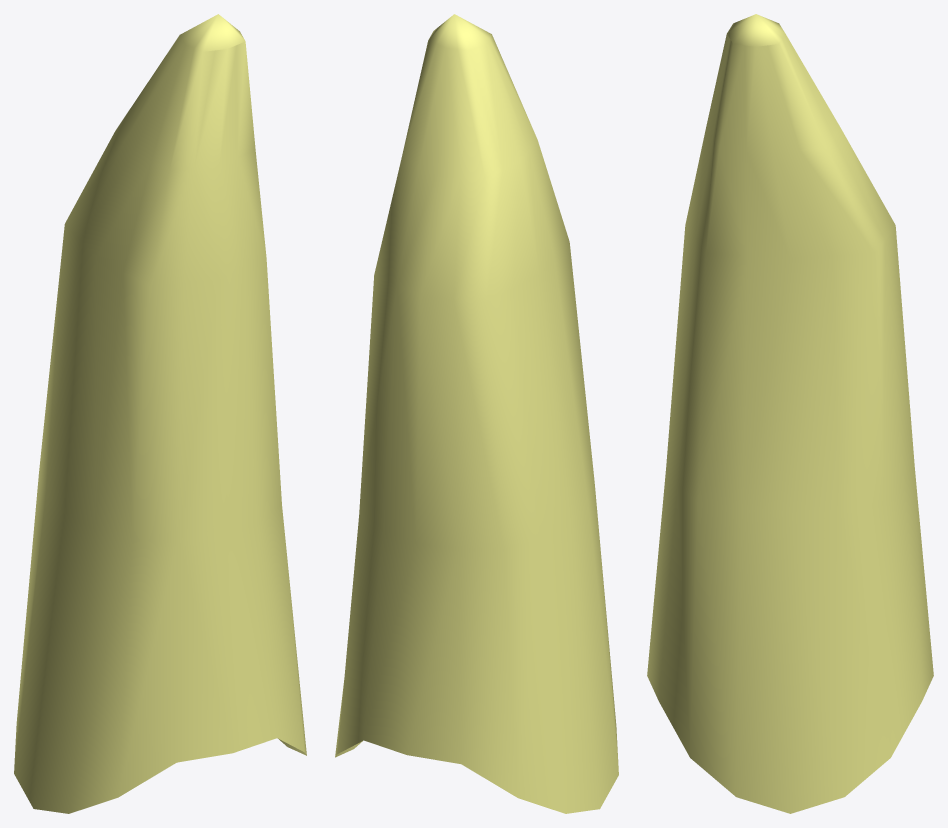
Rendered from D22R_Raiz.obj.
3 renders of one model, left to right at view 1: azimuth 30°, elevation 25°; view 2: azimuth 150°, elevation 25°; view 3: azimuth 270°, elevation 25°, orthographic. The views are drawn at different scales.
Visible parts, largest first — view 1: D22R_Raiz; view 2: D22R_Raiz; view 3: D22R_Raiz.
Part boxes in pixels (x1,y1,x2,y2): D22R_Raiz: (14,14,306,813); D22R_Raiz: (335,14,618,813); D22R_Raiz: (647,14,933,813).
Bounding box in the file's own units: 5.02 × 14.49 × 4.97.
